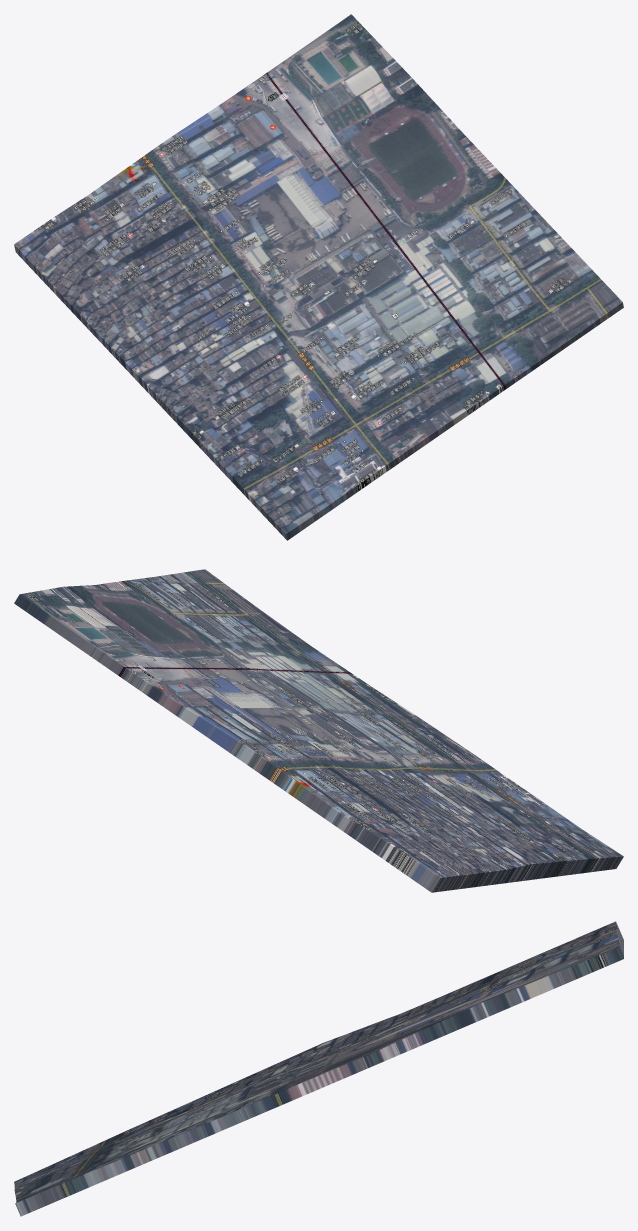
3 renders of one model, top to bottom at view 1: azimuth 30°, elevation 25°; view 2: azimuth 150°, elevation 25°; view 3: azimuth 270°, elevation 25°, orthographic. The views are drawn at different scales.
Visible parts, largest first — view 1: 0_7_2; view 2: 0_7_2; view 3: 0_7_2.
Boxes of the visible parts, x1,y1,x2,y2 form: 0_7_2: (14,14,623,540); 0_7_2: (14,569,623,892); 0_7_2: (14,921,623,1216).
Size of the model in its own units: 599 by 437 by 548.
Materials: 1 (1 with a texture image).
